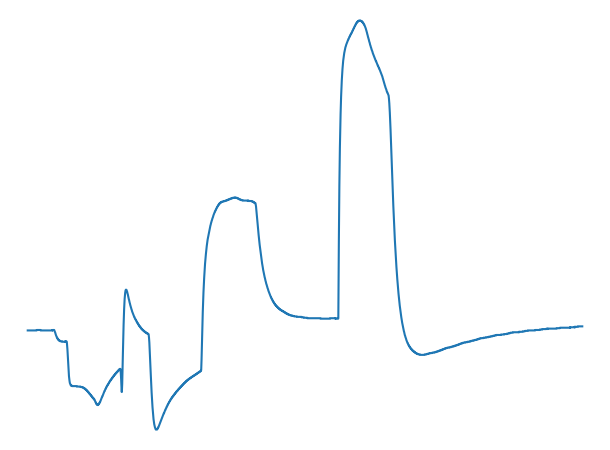decrease: (47, 322, 72, 351), (382, 60, 394, 111), (242, 193, 261, 211), (140, 321, 154, 344)
increase: (109, 362, 127, 395), (193, 358, 207, 383), (326, 304, 343, 324)
